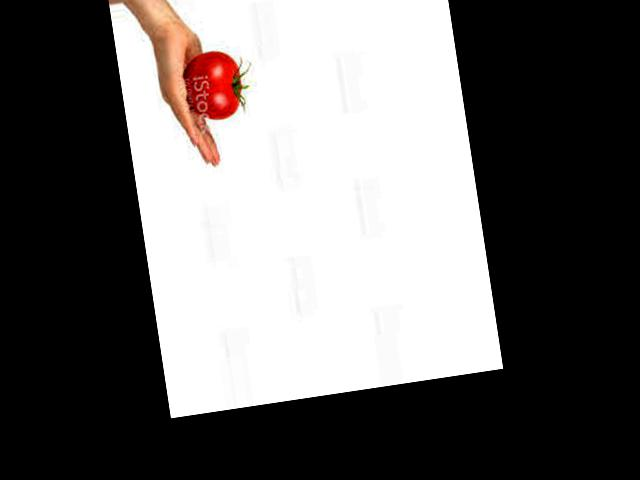tomato: (181, 47, 246, 122)
